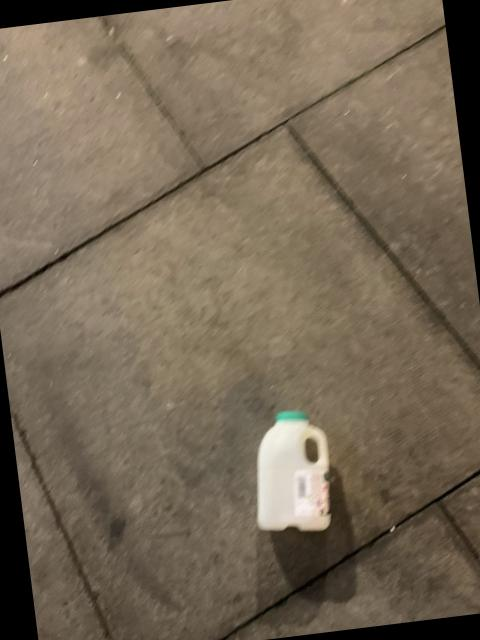plastic: (258, 407, 330, 528)
